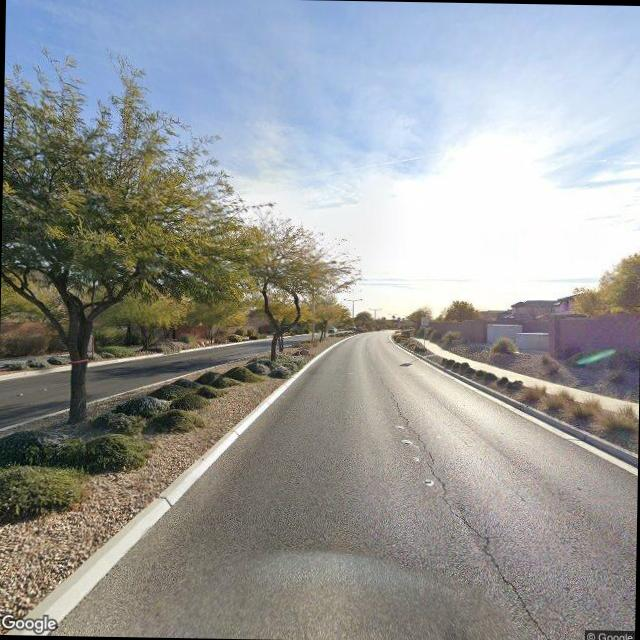pothole: (376, 386, 548, 637)
